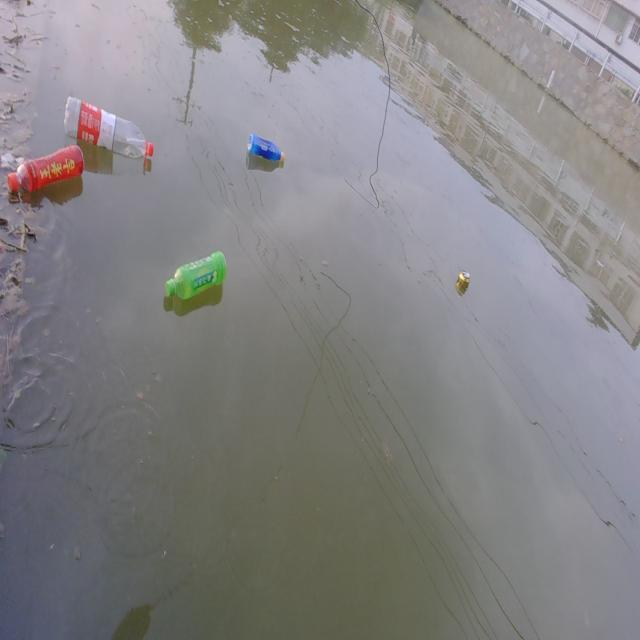garbage: (63, 95, 153, 161), (7, 144, 85, 194), (165, 250, 227, 301), (246, 132, 286, 172)
